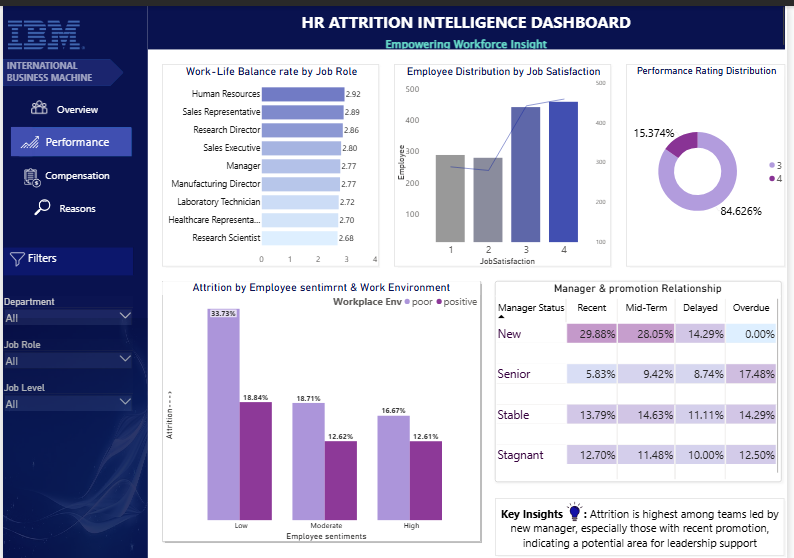

Layout of this report page (visuals, bound fields, positions):
{"tool":"powerbi","page":{"name":"Performance ","canvas":[5200,3700],"ordinal":1},"visuals":[{"type":"textbox","box":[10,0,280,280],"z":0},{"type":"textbox","box":[0,-40,960,3840],"z":1000},{"type":"textbox","box":[960,0,4224,288],"z":2000},{"type":"image","box":[0,0,576,384],"z":3000},{"type":"textbox","box":[18,350,672,288],"z":4000},{"type":"pageNavigator","box":[96,576,768,864],"z":5000},{"type":"textbox","box":[50,803,142,193],"z":6000},{"type":"image","box":[0,480,480,384],"z":7000},{"type":"textbox","box":[0,1600,864,192],"z":8000},{"type":"image","box":[0,1619,192,120],"z":9000},{"type":"slicer","title":"Department","fields":{"Values":["WA_Fn-UseC_-HR-Employee-Attrition.Department"]},"box":[0,1920,864,192],"z":10000},{"type":"slicer","title":"Job Role","fields":{"Values":["WA_Fn-UseC_-HR-Employee-Attrition.JobRole"]},"box":[0,2208,864,288],"z":11000},{"type":"slicer","title":"Job Level","fields":{"Values":["WA_Fn-UseC_-HR-Employee-Attrition.JobLevel"]},"box":[0,2496,864,192],"z":12000},{"type":"shape","box":[0,350,800,180],"z":13000},{"type":"image","box":[125,1056,140,170],"z":14000},{"type":"image","box":[35,840,288,120],"z":15000},{"type":"image","box":[200,1282,123,110],"z":16000},{"type":"lineStackedColumnComboChart","title":"Employee Distribution by Job Satisfaction","fields":{"Category":["WA_Fn-UseC_-HR-Employee-Attrition.JobSatisfaction"],"Y":["CountNonNull(WA_Fn-UseC_-HR-Employee-Attrition.EmployeeNumber)"],"Y2":["CountNonNull(WA_Fn-UseC_-HR-Employee-Attrition.EmployeeNumber)"]},"box":[2592,384,1440,1344],"z":17000},{"type":"donutChart","title":"Performance Rating Distribution","fields":{"Y":["CountNonNull(WA_Fn-UseC_-HR-Employee-Attrition.EmployeeNumber)"],"Category":["WA_Fn-UseC_-HR-Employee-Attrition.PerformanceRating"]},"box":[4128,384,1056,1344],"z":18000},{"type":"barChart","title":"Work-Life Balance rate by Job Role","fields":{"Category":["WA_Fn-UseC_-HR-Employee-Attrition.JobRole"],"Y":["Avg(WA_Fn-UseC_-HR-Employee-Attrition.WorkLifeBalance)"]},"box":[1056,384,1440,1344],"z":19000},{"type":"lineClusteredColumnComboChart","title":"Attrition by Employee sentimrnt & Work Environment","fields":{"Category":["environment_and_PersonalSentiment_mismatch.personal_sentiments"],"Series":["environment_and_PersonalSentiment_mismatch.Workplace Enviornment"],"Y":["Sum(environment_and_PersonalSentiment_mismatch.rate_attrition)"]},"box":[1056,1824,2112,1824],"z":20000},{"type":"pivotTable","title":"Manager & promotion Relationship","fields":{"Rows":["manager_tenure_and_promotions.Manager_tenure_bucket"],"Values":["Sum(manager_tenure_and_promotions.AttritionRate_percentage)"],"Columns":["manager_tenure_and_promotions.promotion status"]},"box":[3264,1824,1900,1333],"z":21000},{"type":"textbox","title":"tuyh","box":[3264,3264,1920,384],"z":22000},{"type":"image","box":[3728,3240,128,218],"z":23000},{"type":"image","box":[0,2068,960,1632],"z":24000},{"type":"actionButton","box":[4896,96,288,192],"z":24001}]}

Visuals, with their boxes on the page's 5200x3700 design canvas (x1, y1, x2, y2). These are canvas units, not pixel positions in the 794x558 screenshot, which may show the page scaled, cropped or inside an application window:
textbox: [left=10, top=0, right=290, bottom=280]
textbox: [left=0, top=-40, right=960, bottom=3800]
textbox: [left=960, top=0, right=5184, bottom=288]
image: [left=0, top=0, right=576, bottom=384]
textbox: [left=18, top=350, right=690, bottom=638]
pageNavigator: [left=96, top=576, right=864, bottom=1440]
textbox: [left=50, top=803, right=192, bottom=996]
image: [left=0, top=480, right=480, bottom=864]
textbox: [left=0, top=1600, right=864, bottom=1792]
image: [left=0, top=1619, right=192, bottom=1739]
"Department" slicer: [left=0, top=1920, right=864, bottom=2112]
"Job Role" slicer: [left=0, top=2208, right=864, bottom=2496]
"Job Level" slicer: [left=0, top=2496, right=864, bottom=2688]
shape: [left=0, top=350, right=800, bottom=530]
image: [left=125, top=1056, right=265, bottom=1226]
image: [left=35, top=840, right=323, bottom=960]
image: [left=200, top=1282, right=323, bottom=1392]
"Employee Distribution by Job Satisfaction" lineStackedColumnComboChart: [left=2592, top=384, right=4032, bottom=1728]
"Performance Rating Distribution" donutChart: [left=4128, top=384, right=5184, bottom=1728]
"Work-Life Balance rate by Job Role" barChart: [left=1056, top=384, right=2496, bottom=1728]
"Attrition by Employee sentimrnt & Work Environment" lineClusteredColumnComboChart: [left=1056, top=1824, right=3168, bottom=3648]
"Manager & promotion Relationship" pivotTable: [left=3264, top=1824, right=5164, bottom=3157]
"tuyh" textbox: [left=3264, top=3264, right=5184, bottom=3648]
image: [left=3728, top=3240, right=3856, bottom=3458]
image: [left=0, top=2068, right=960, bottom=3700]
actionButton: [left=4896, top=96, right=5184, bottom=288]
